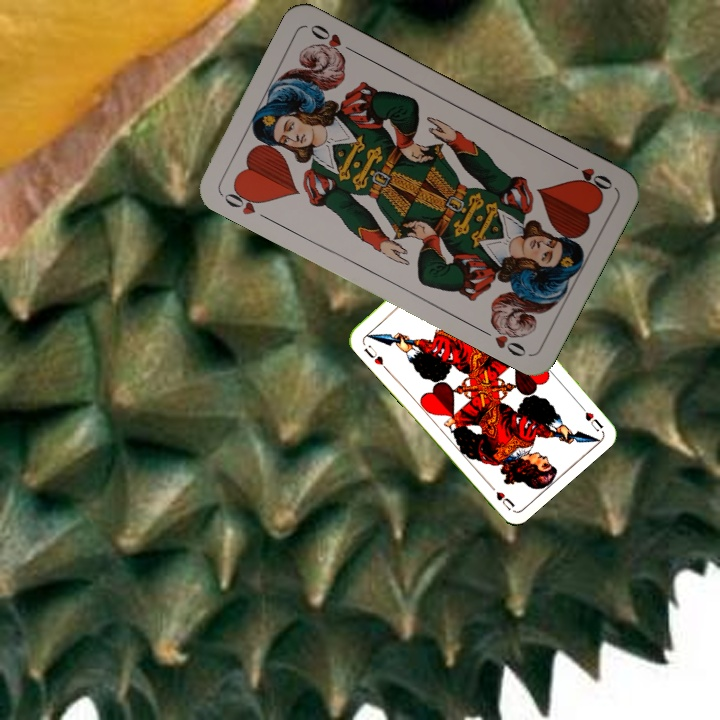HO: (218, 182, 273, 223), (562, 157, 615, 195)
HU: (574, 399, 606, 434), (360, 341, 386, 368)
